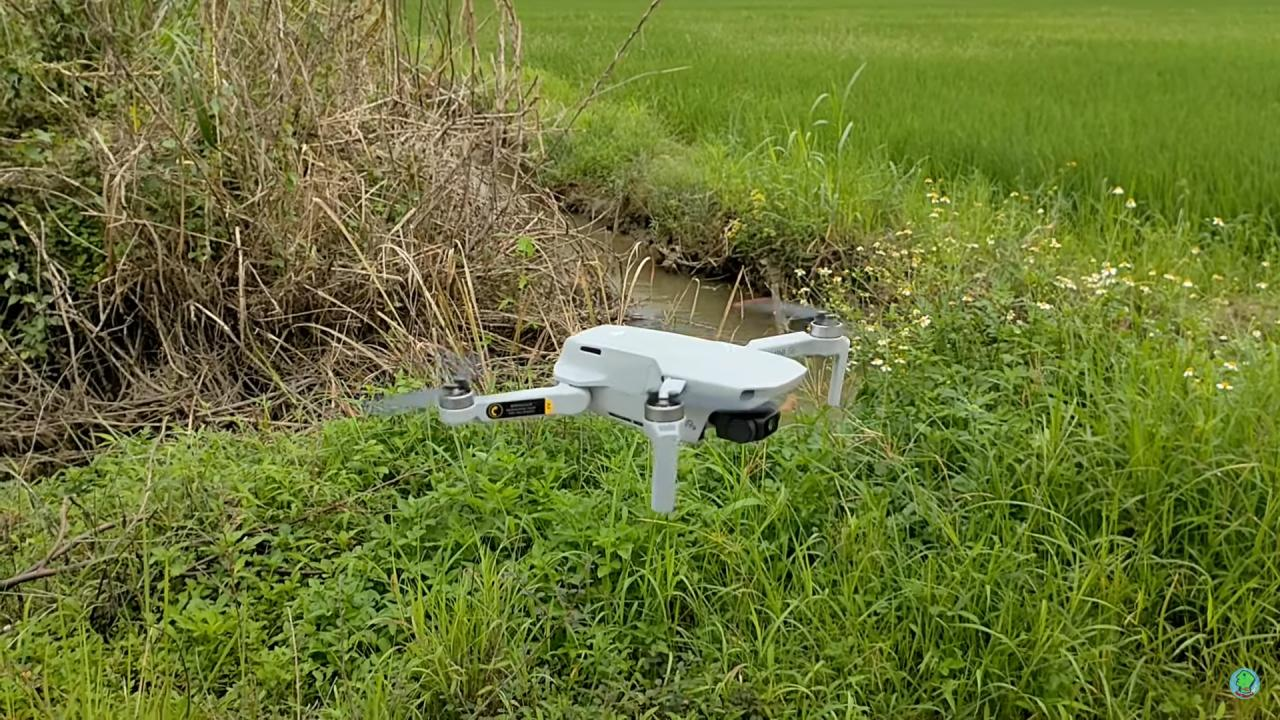Drone: (347, 283, 917, 530)
